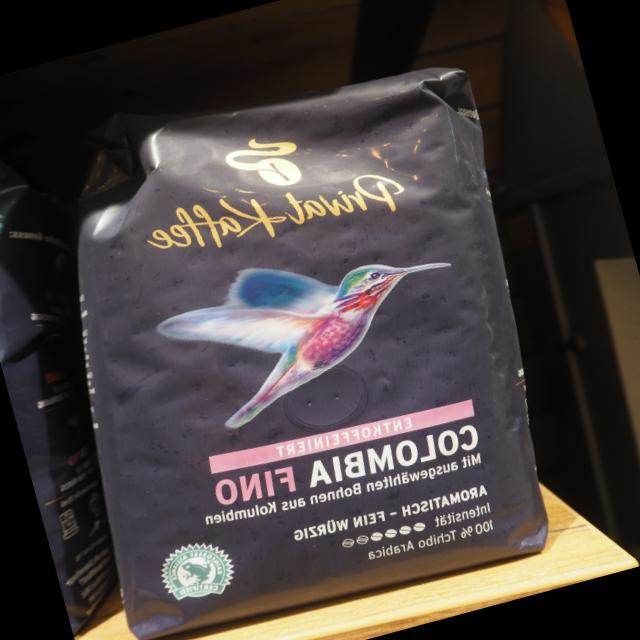C Fino Bohne: (0, 31, 601, 640)
